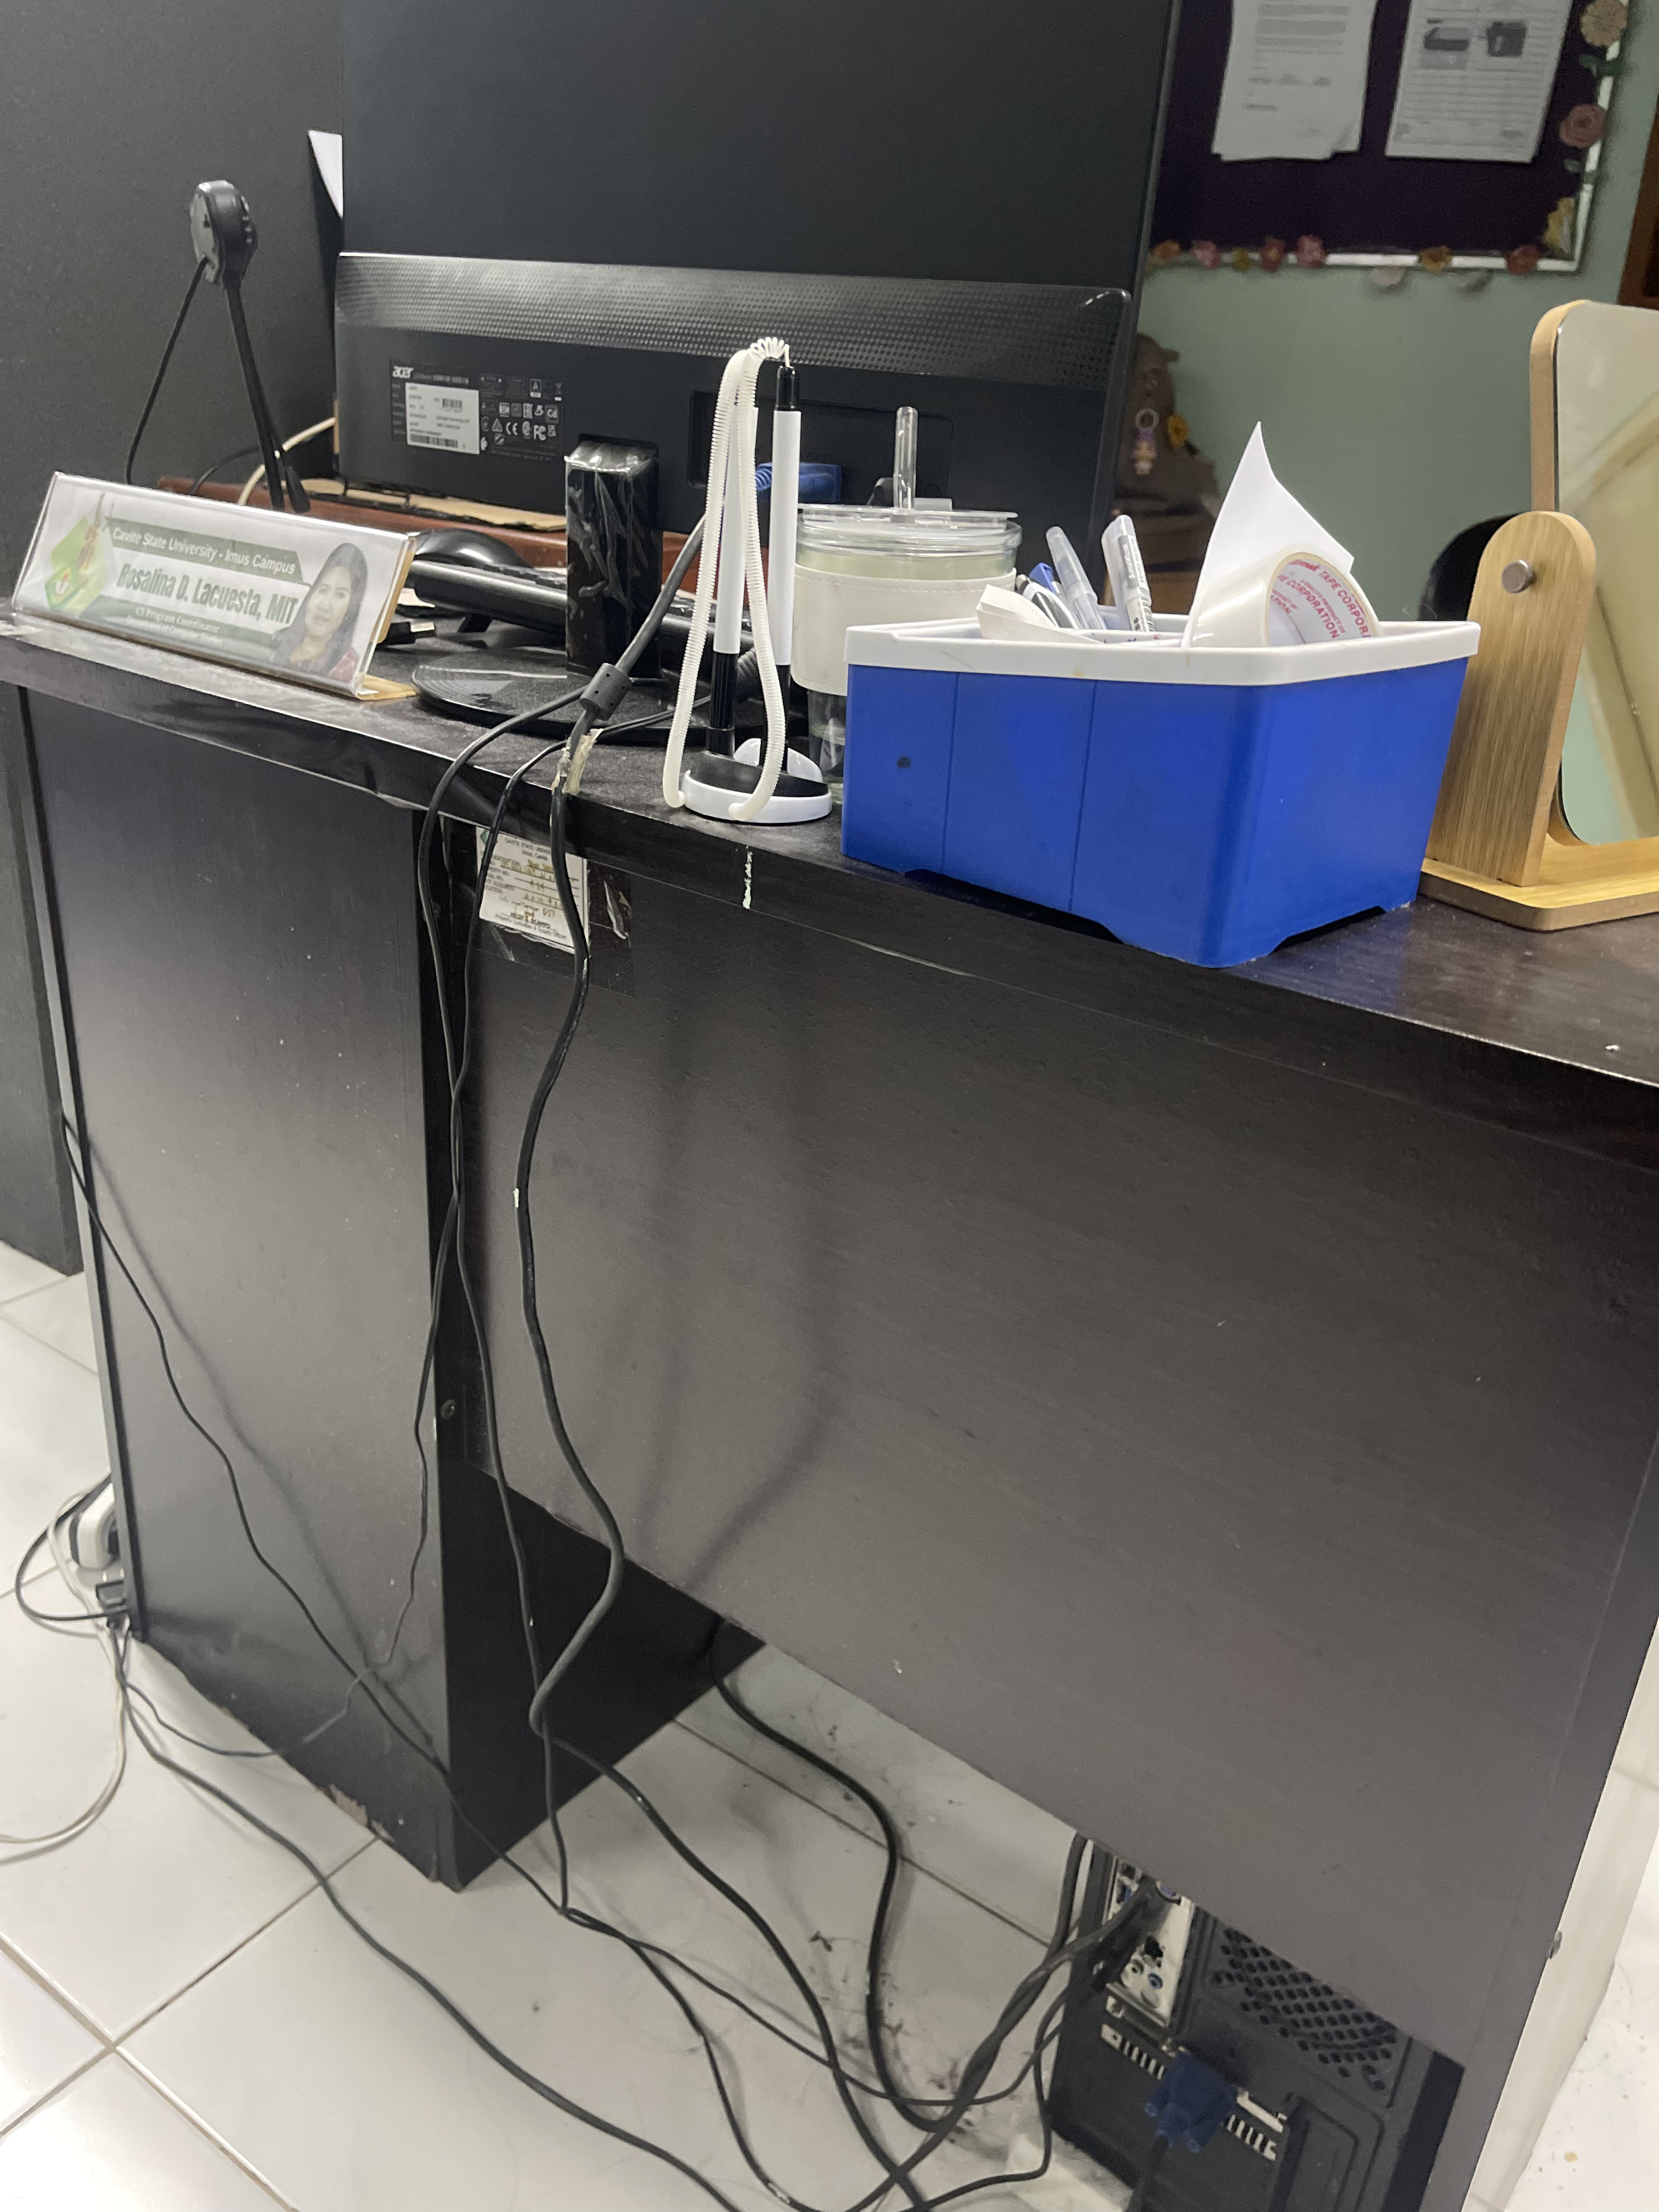table1: (5, 552, 1659, 2212)
